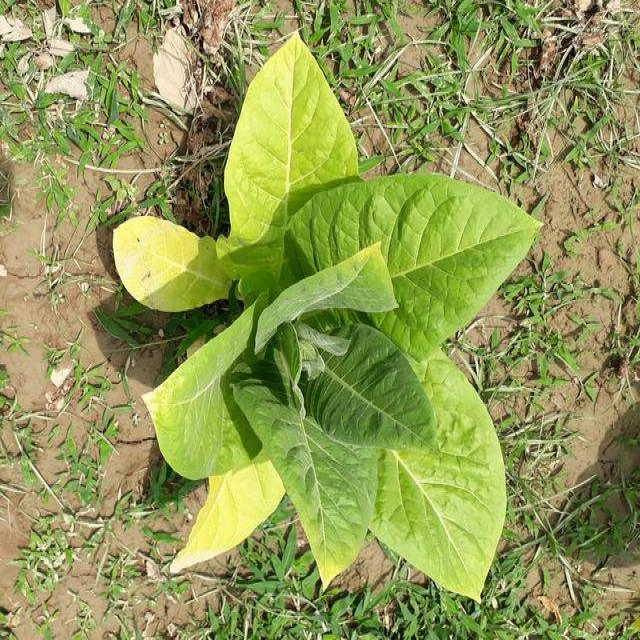crop: (111, 24, 546, 605)
